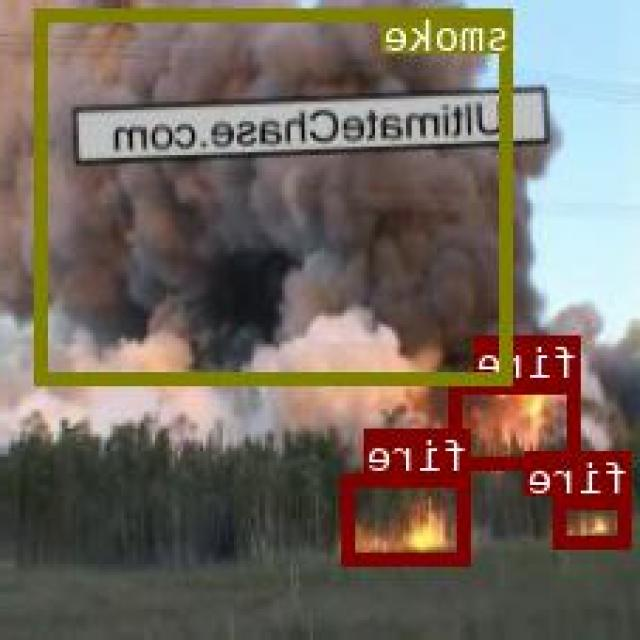fire: (346, 472, 471, 562), (453, 380, 582, 467), (556, 494, 633, 544)
smoke: (37, 7, 515, 382)
